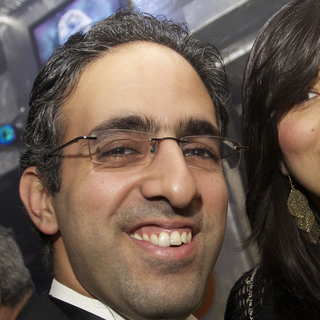eye: (95, 141, 142, 162), (179, 146, 219, 165)
